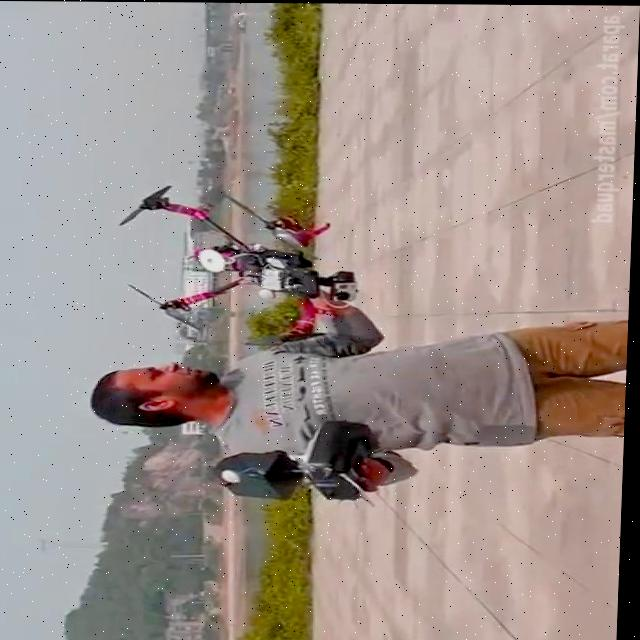drone: (114, 182, 363, 345)
